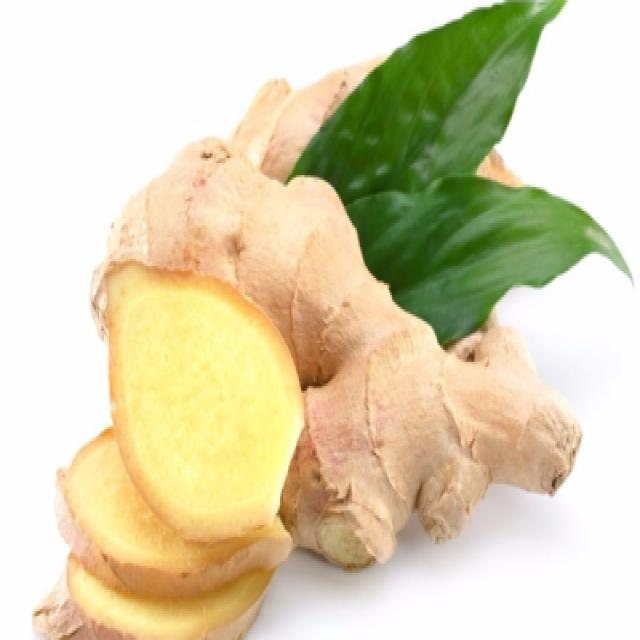ginger: (23, 40, 580, 637)
